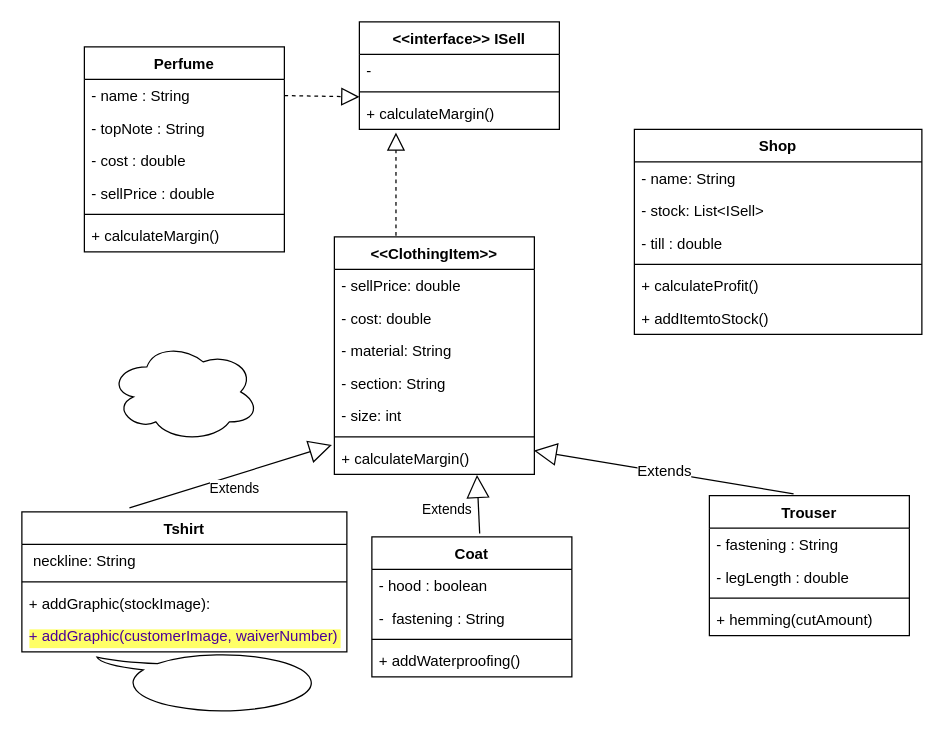
Image size: 944x736. Some labels were removed from this diagram. The centre of each missing label's shape, as x and y in pixels:
is a: point 183,391
Method overloading: point 209,682
